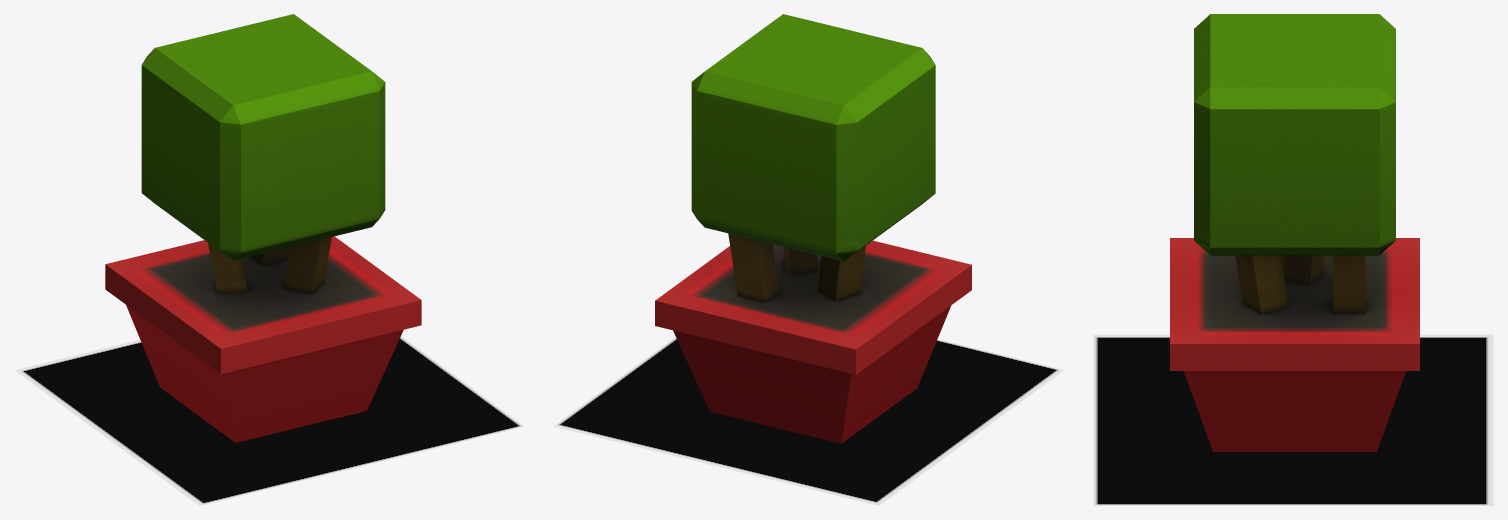
The model's file is 1x1_plant.FBX.
3 views of the same model, side by side, from view 1: azimuth 30°, elevation 25°; view 2: azimuth 150°, elevation 25°; view 3: azimuth 270°, elevation 25° (orthographic). The views are drawn at different scales.
Parts seen in each view (by area): view 1: 1x1_plant, 1x1_plant_soft_shadow; view 2: 1x1_plant, 1x1_plant_soft_shadow; view 3: 1x1_plant, 1x1_plant_soft_shadow.
Boxes of the visible parts, box(x1,y1,x2,y2) form: 1x1_plant: box(105, 14, 421, 442); 1x1_plant_soft_shadow: box(14, 336, 524, 505); 1x1_plant: box(655, 14, 971, 443); 1x1_plant_soft_shadow: box(553, 337, 1064, 505); 1x1_plant: box(1170, 14, 1419, 451); 1x1_plant_soft_shadow: box(1093, 334, 1493, 505).
Size of the model in its own units: 1303 by 1317 by 1286.
